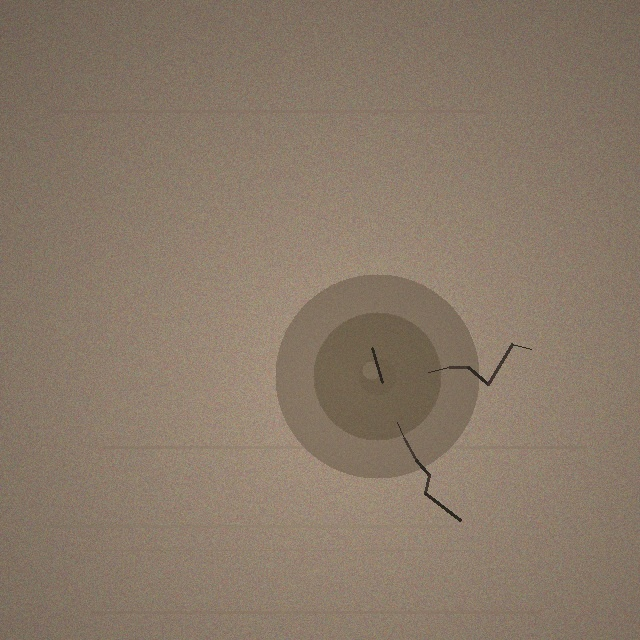crack: (275, 274, 479, 478)
